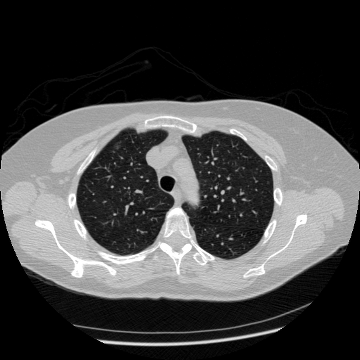nodule: (114, 142, 120, 148)
